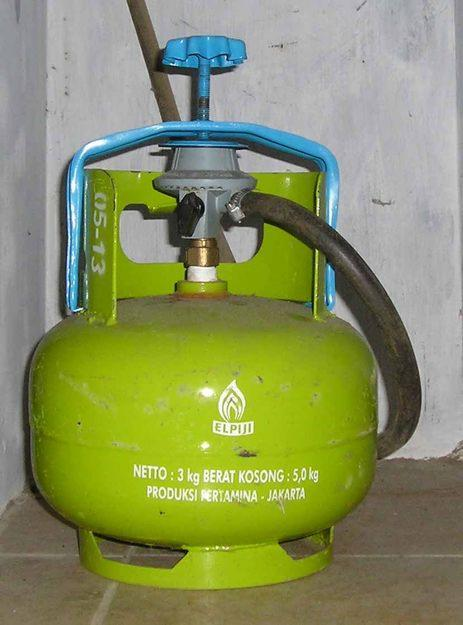gas_ijo: (26, 165, 378, 591)
